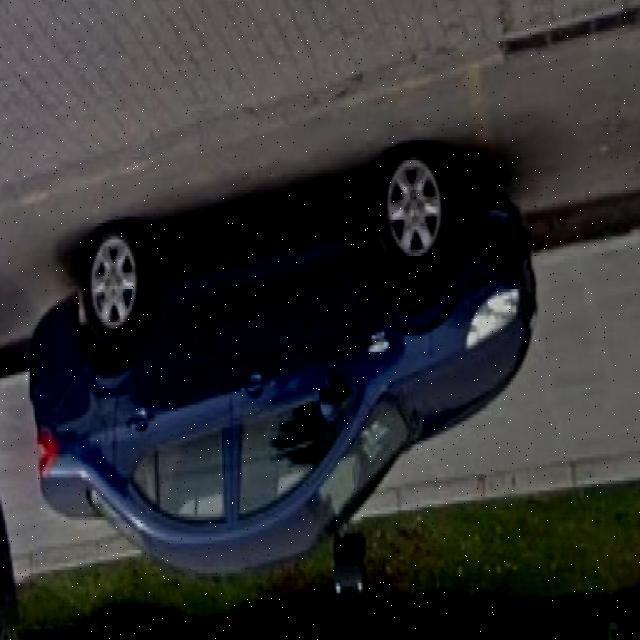car: (31, 147, 536, 586)
